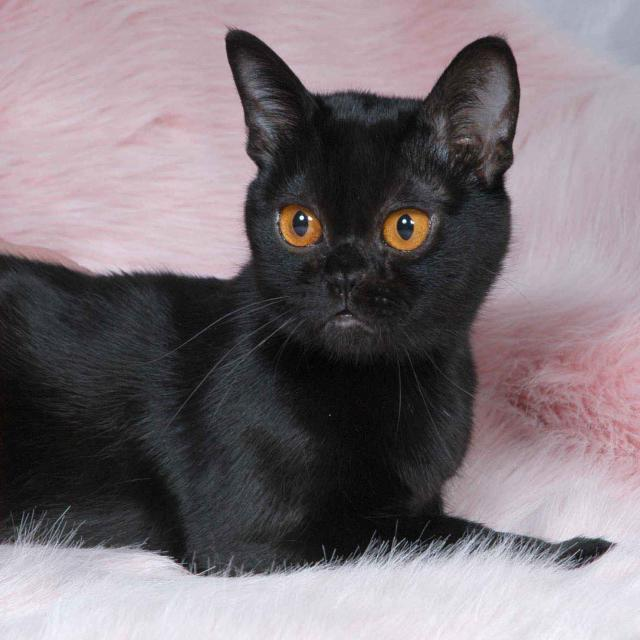Bombay: (226, 29, 519, 354)
